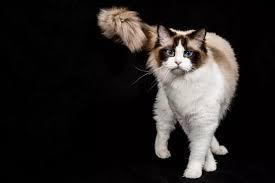ragdoll: (150, 16, 216, 82)
